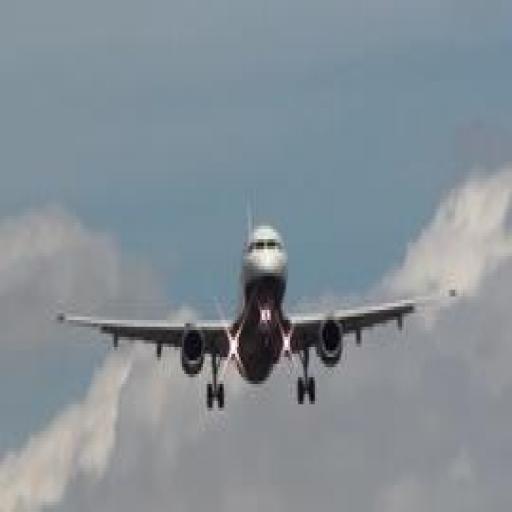aircraft: (57, 205, 459, 411)
